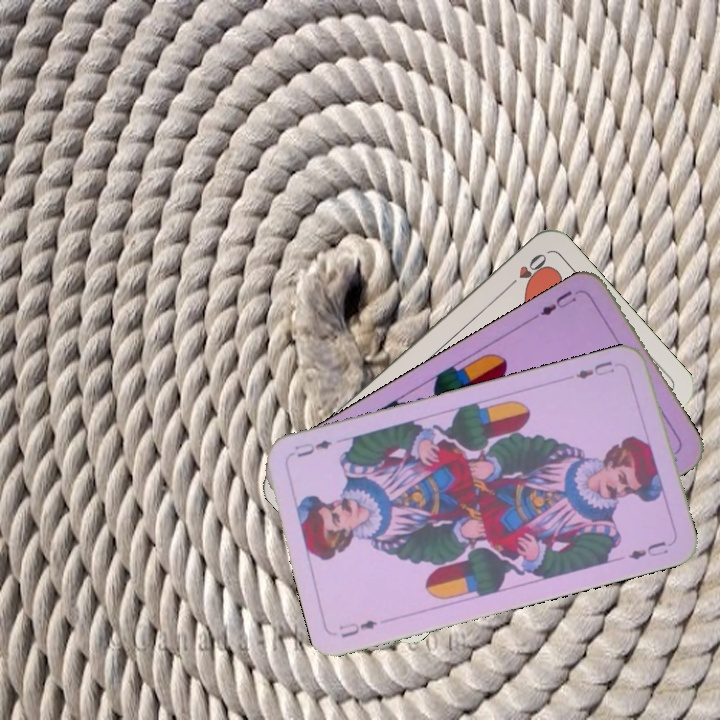EU: (536, 285, 585, 319), (572, 357, 617, 382), (335, 616, 380, 641)
HO: (501, 249, 550, 293)
